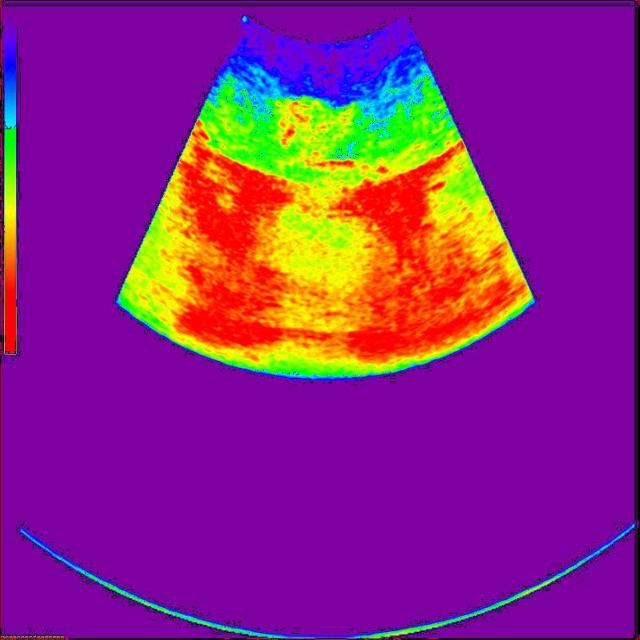chicken muscle post: (265, 97, 363, 159)
